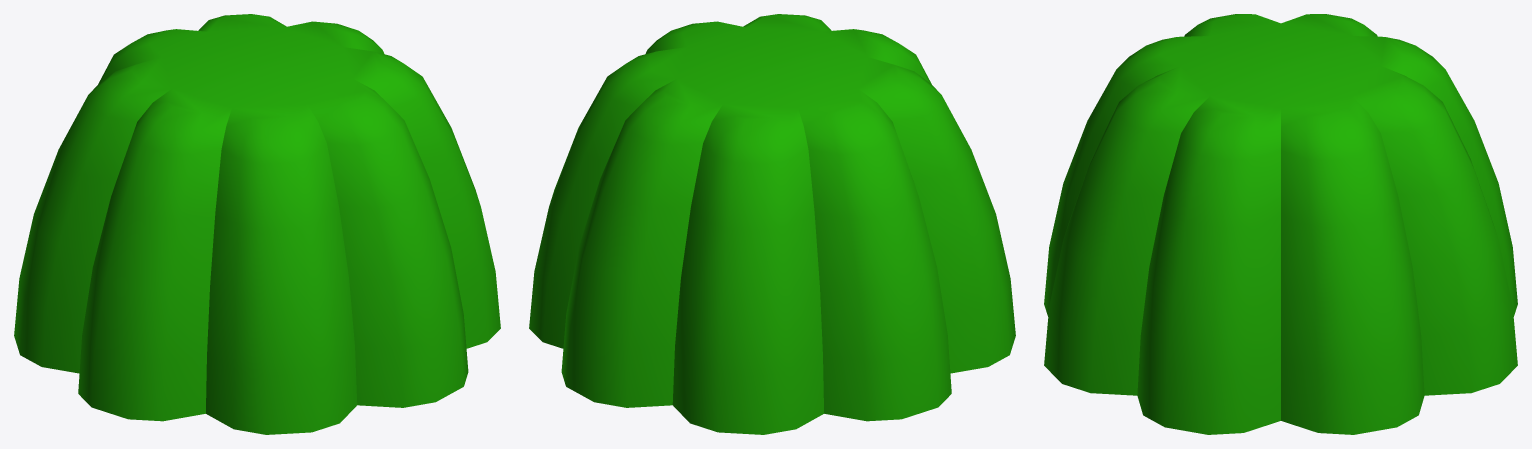
File: Jelly_3.FBX
3 renders of one model, left to right at view 1: azimuth 30°, elevation 25°; view 2: azimuth 150°, elevation 25°; view 3: azimuth 270°, elevation 25°, orthographic.
Parts seen in each view (by area): view 1: Jelly3; view 2: Jelly3; view 3: Jelly3.
Part boxes in pixels (x1,y1,x2,y2): Jelly3: (14,14,500,434); Jelly3: (529,14,1015,434); Jelly3: (1044,14,1517,434).
Bounding box in the file's own units: 22.73 × 14.28 × 22.73.
